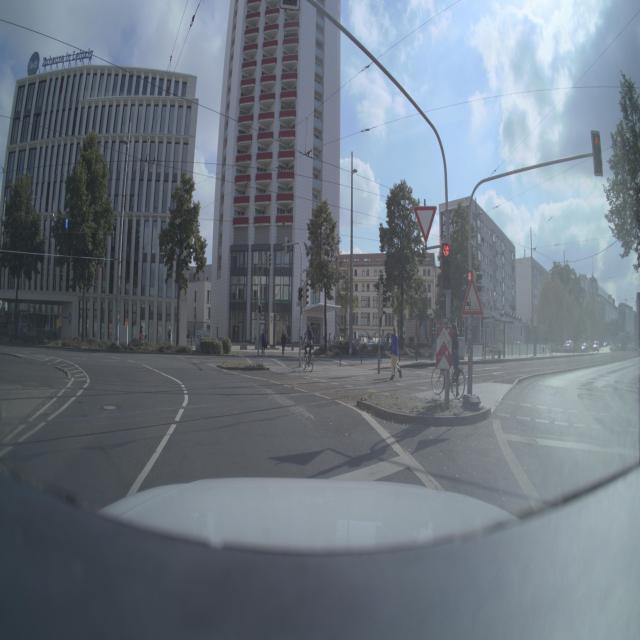red_light: (440, 242, 457, 294)
